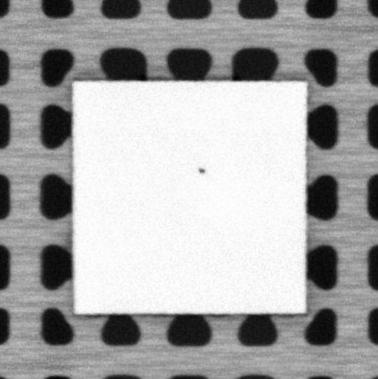DIE_INK: (197, 165, 207, 175)
